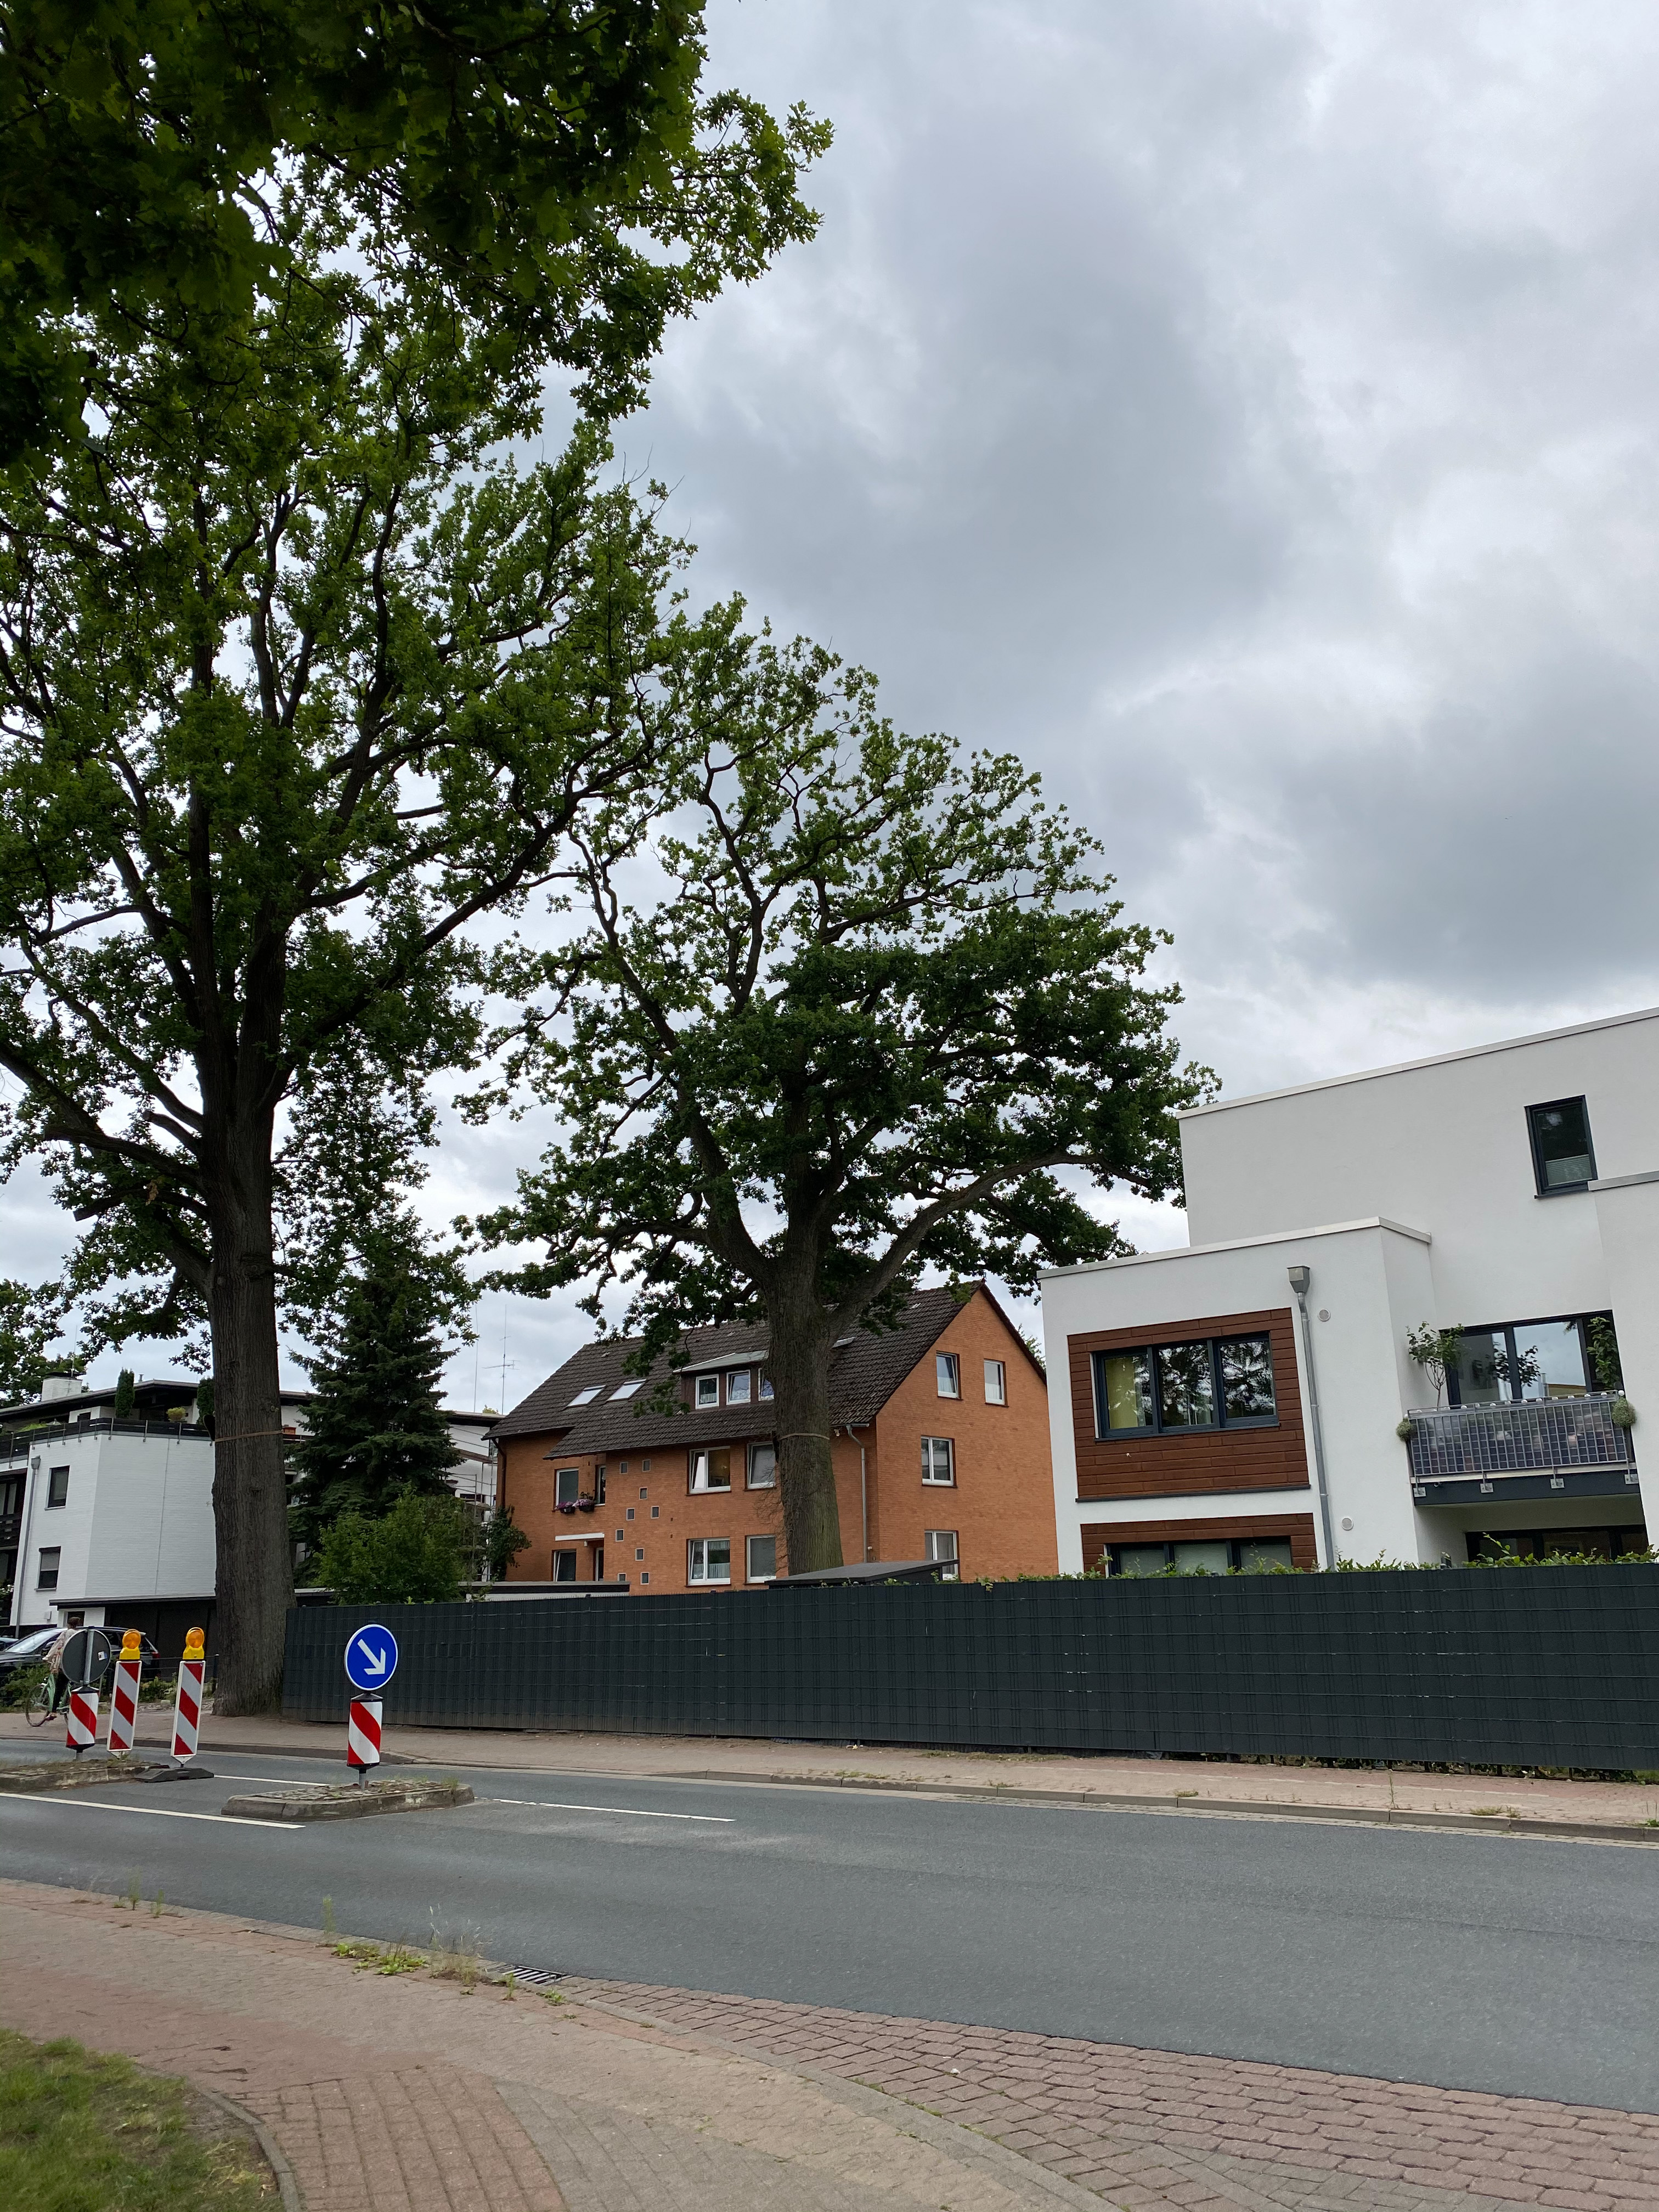tree: (0, 357, 753, 1702), (446, 664, 1223, 1573), (0, 0, 769, 488), (282, 1204, 469, 1587), (0, 1277, 96, 1409)
